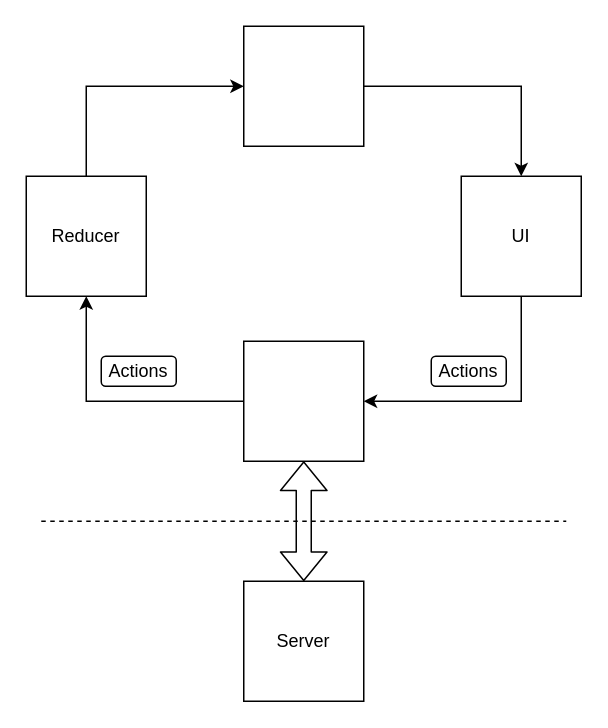
The diagram is 608 pixels wide and 728 high, and some of its shapes have lost their labels. The shapes that lost their labels are listed below. From the top down, each one's box as (x1, y1, x2, y2) in pixels, then its label:
(242, 25, 364, 146): Store
(242, 340, 364, 461): Middleware
